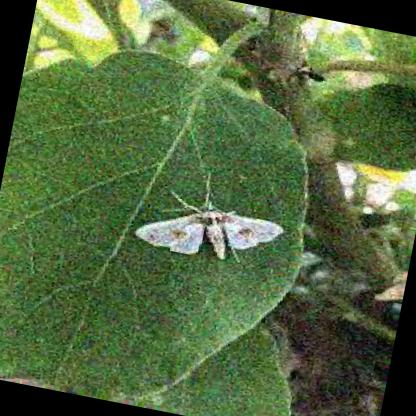leucinodes: (135, 196, 281, 260)
